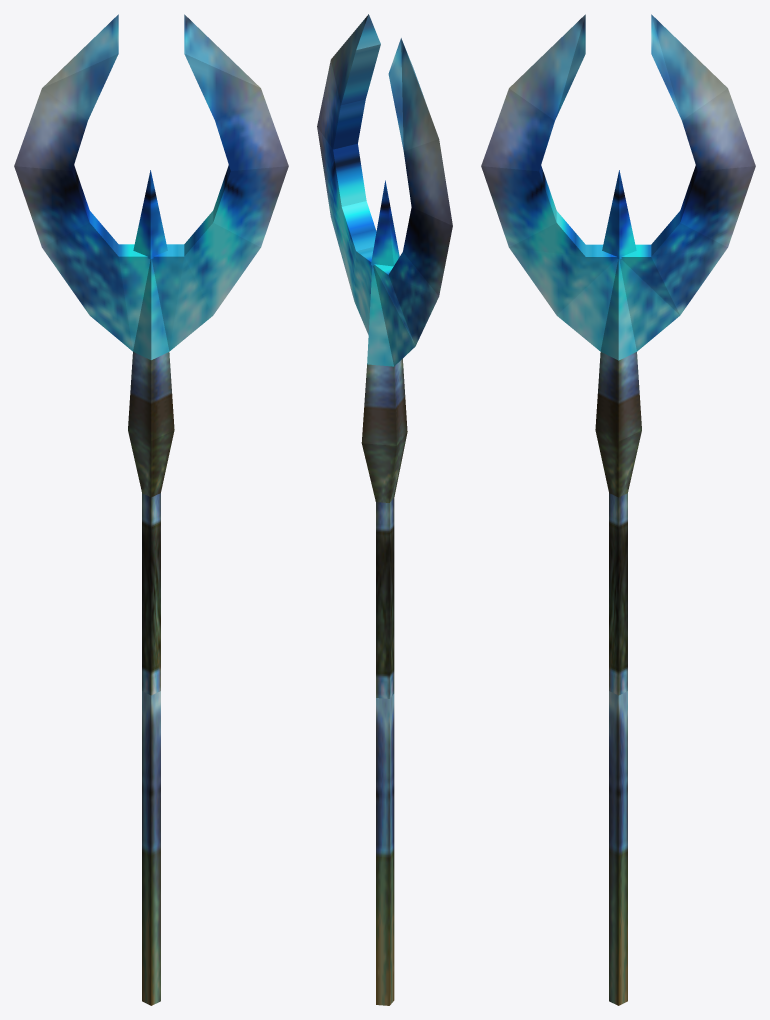
Rendered from longarm03_2.obj.
3 renders of one model, left to right at view 1: azimuth 90°, elevation 25°; view 2: azimuth 210°, elevation 25°; view 3: azimuth 270°, elevation 25°, orthographic.
Parts seen in each view (by area): view 1: longarm03_2; view 2: longarm03_2; view 3: longarm03_2.
Boxes of the visible parts, x1,y1,x2,y2 form: longarm03_2: [14, 14, 288, 1005]; longarm03_2: [317, 14, 452, 1005]; longarm03_2: [481, 14, 755, 1005].
Bounding box in the file's own units: 0.1175 × 2.39 × 0.6037.
